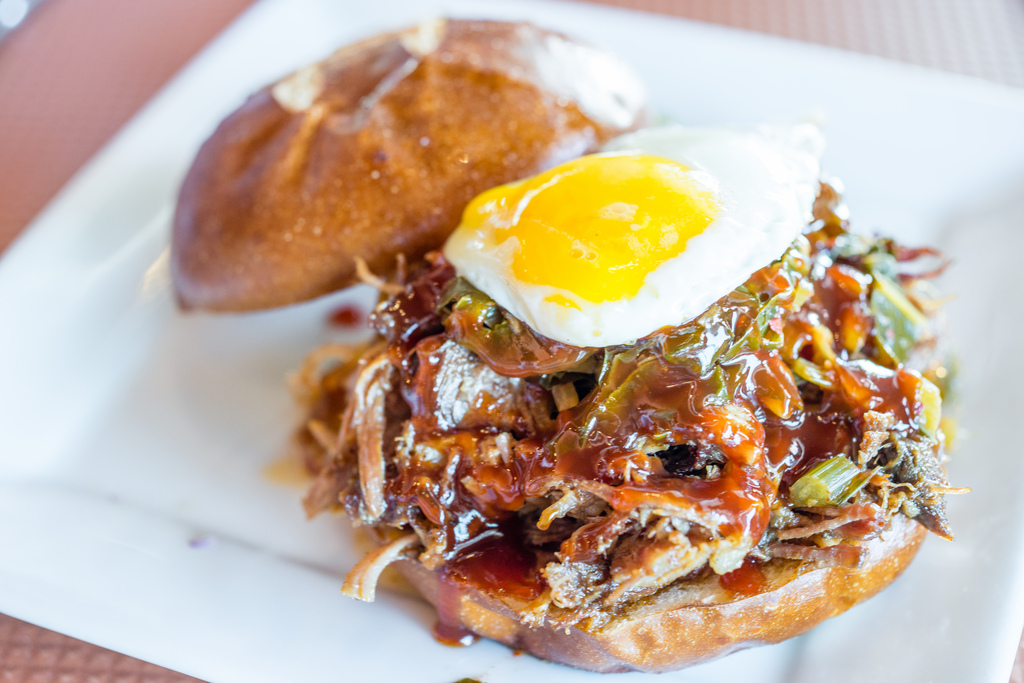fried egg: (458, 119, 805, 338)
slice of bread: (172, 25, 609, 310), (428, 538, 916, 663)
